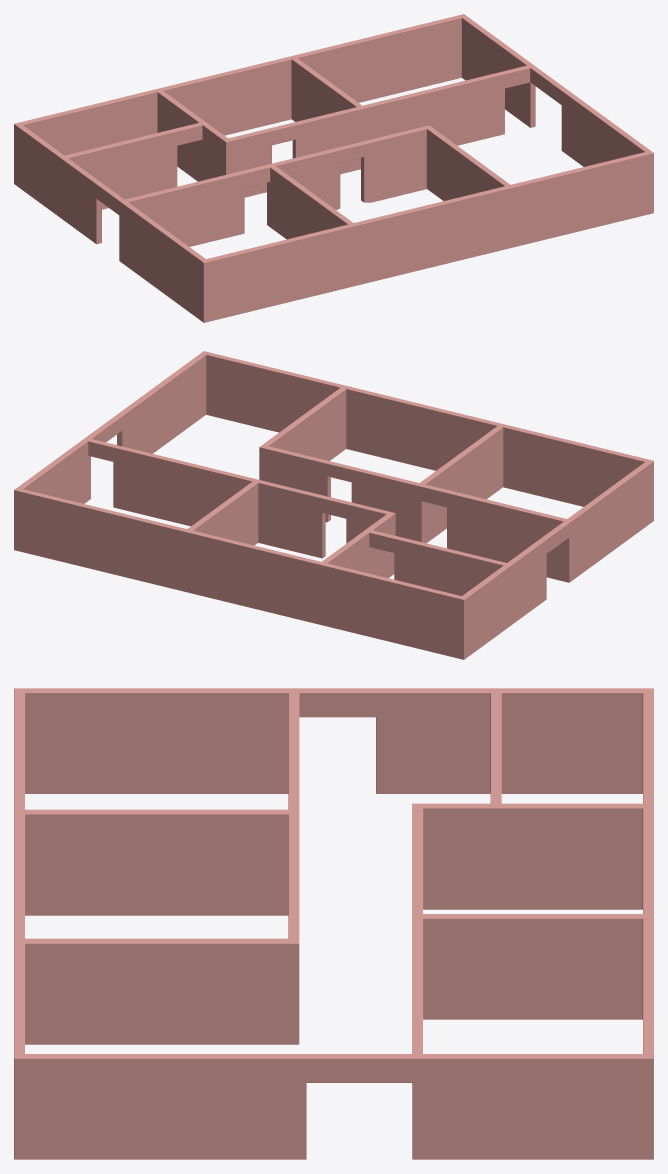
File: home_interior_m_ahmet.fbx
The picture shows the model from 3 angles, top to bottom: view 1: azimuth 30°, elevation 25°; view 2: azimuth 150°, elevation 25°; view 3: azimuth 270°, elevation 25°; orthographic projection. The views are drawn at different scales.
Parts seen in each view (by area): view 1: Second_Part2; view 2: Second_Part2; view 3: Second_Part2.
Part boxes in pixels (x1=…): Second_Part2: x1=14, y1=14, x2=653, y2=322; Second_Part2: x1=14, y1=351, x2=653, y2=659; Second_Part2: x1=14, y1=688, x2=653, y2=1159.
Size of the model in its own units: 12.82 by 1.64 by 9.37.
